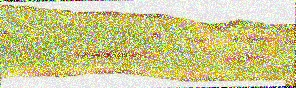Bacterial_Leaf_Blight: (210, 46, 274, 67), (181, 36, 295, 45), (67, 50, 153, 58), (136, 25, 171, 42), (0, 21, 13, 42), (164, 50, 174, 62)
